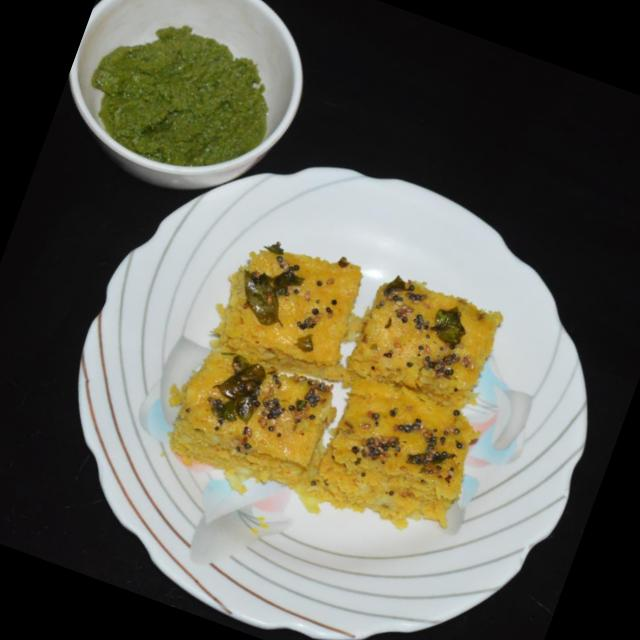dhokla: (148, 223, 534, 562)
